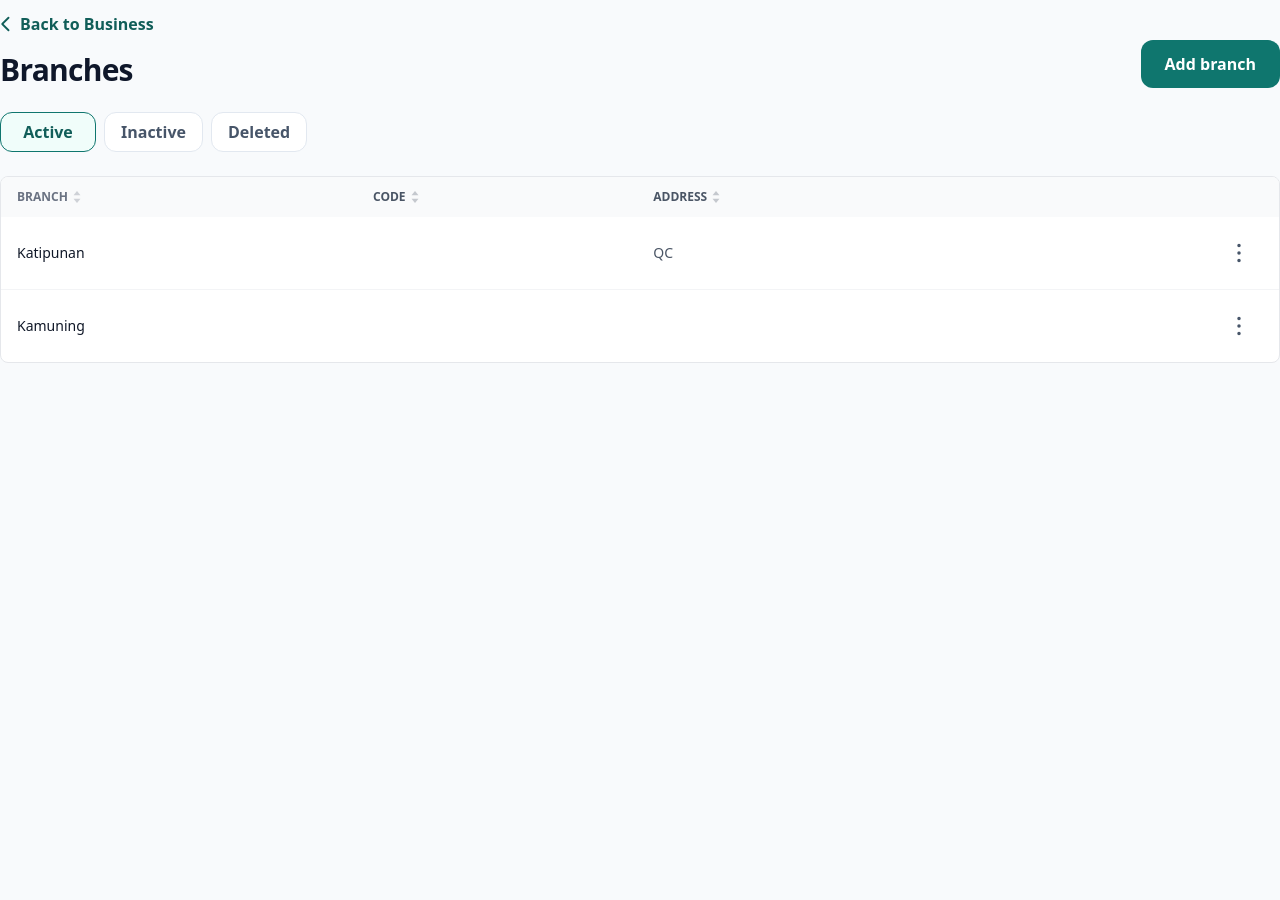
Test: BranchesPage › hides departments when the shop does not monitor them
The width and height of the screenshot is (1280, 900).
Step 1. Click the button named "Actions for Katipunan" → {"x": 1239, "y": 253}, box [1215,229,1263,277]
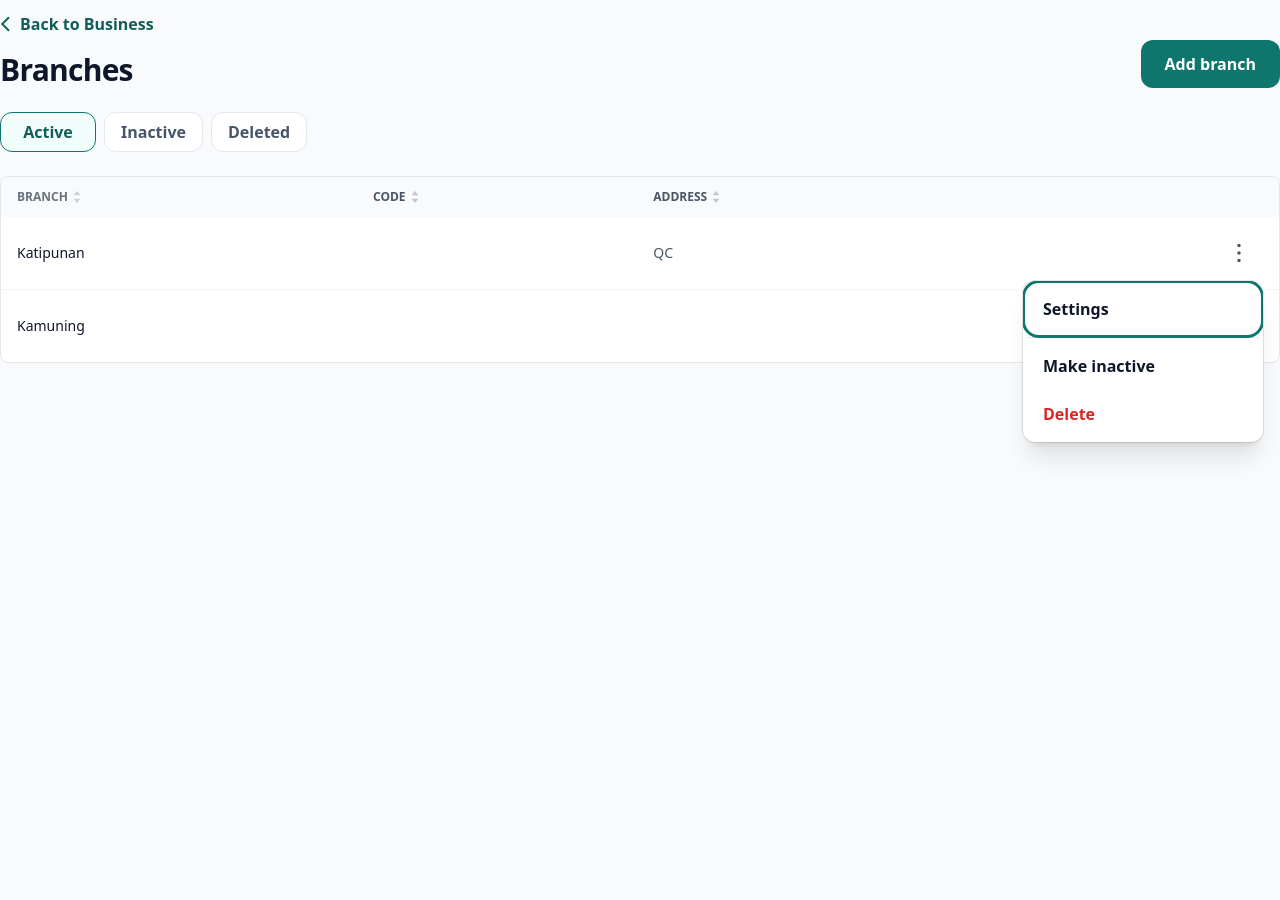
Step 2. Click the menu item "Settings" → {"x": 1143, "y": 309}, box [1027,285,1259,333]
(page scrolled)
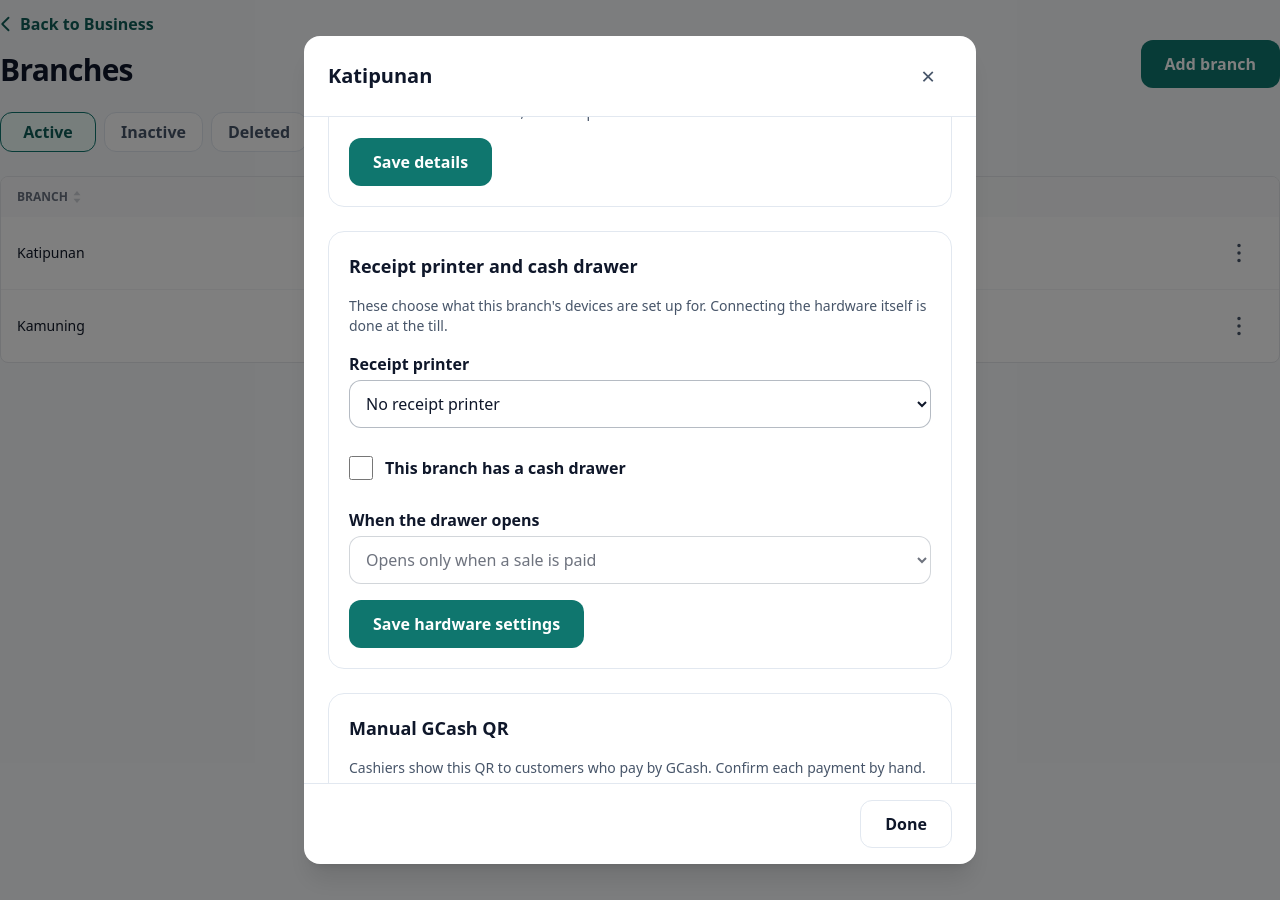
Expected: the form named "Hardware settings" is shown, [328,231,952,669]
